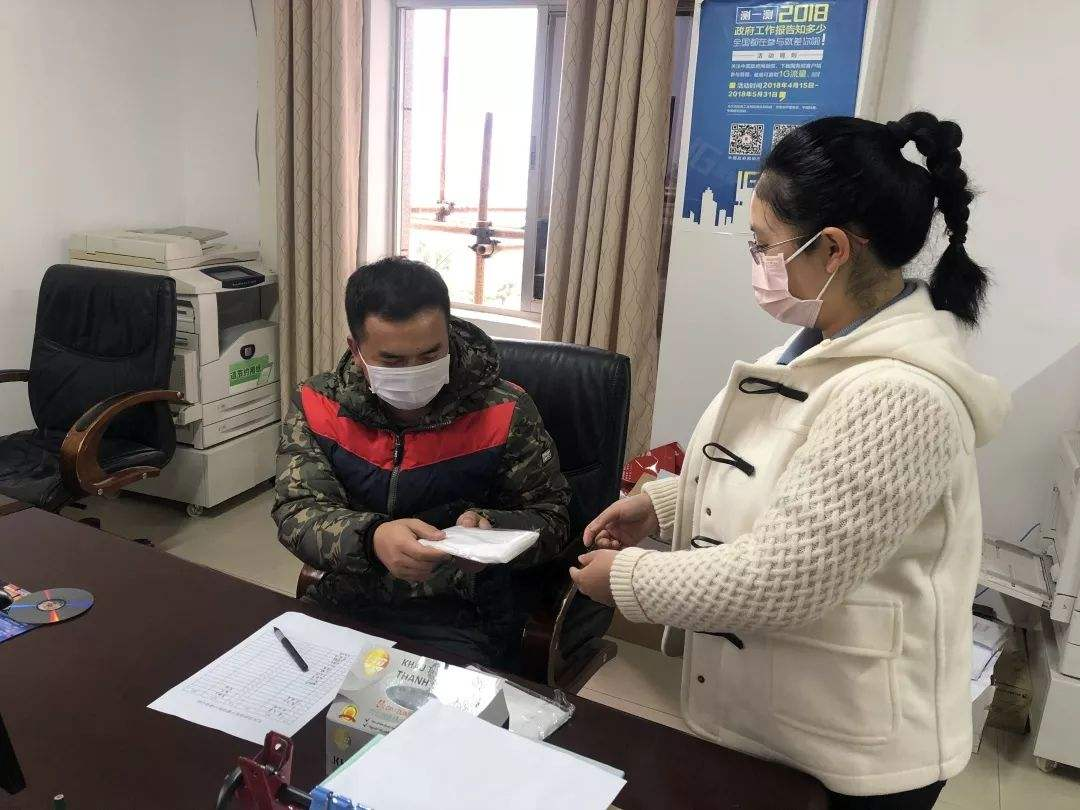Mask: (743, 175, 852, 340), (359, 306, 456, 413)
